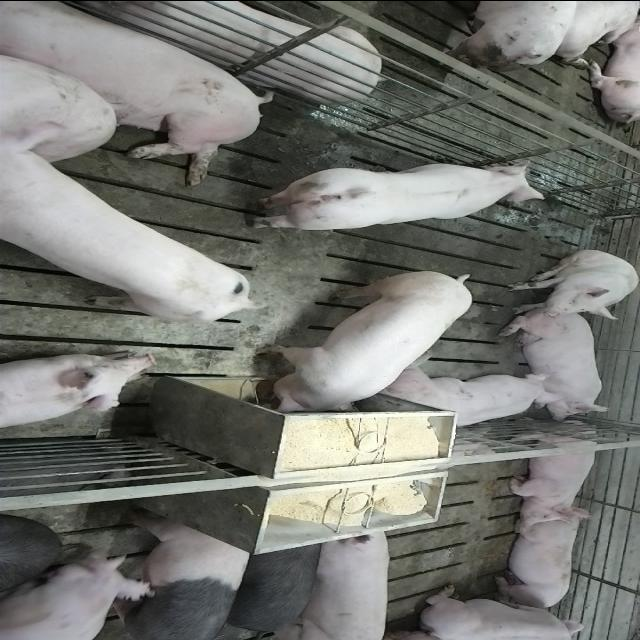Feeding: (250, 273, 474, 421)
Lateral_lying: (5, 4, 277, 188), (40, 0, 383, 103)
Sitting: (504, 249, 638, 319)
Standing: (0, 140, 257, 328), (242, 155, 548, 229), (82, 514, 256, 638), (1, 545, 160, 637), (218, 534, 329, 638), (292, 522, 390, 637)
Sternal_lying: (0, 352, 158, 433), (504, 314, 614, 424), (376, 366, 558, 431), (408, 584, 598, 638), (506, 425, 604, 525), (491, 511, 588, 611)
